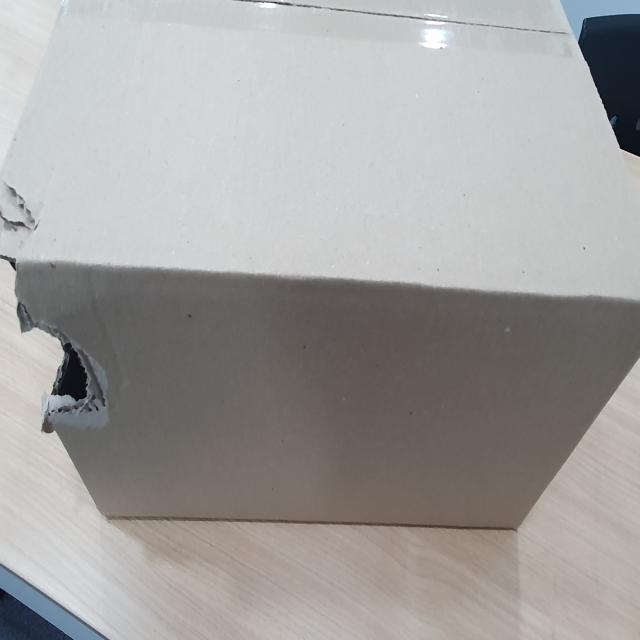hole: (4, 254, 107, 428)
